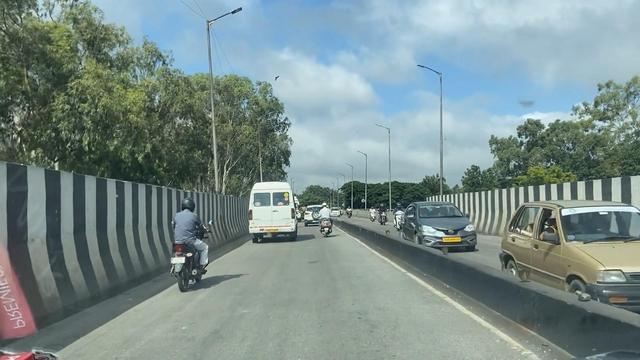HMV: (247, 180, 298, 244)
LMV: (168, 197, 210, 299), (320, 199, 335, 242)
